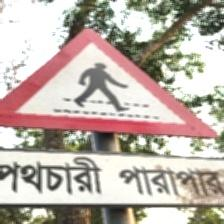Pedestrian-crossing: (0, 25, 223, 208)
